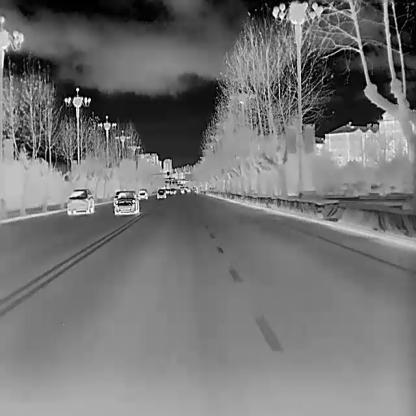car: (67, 189, 93, 216), (113, 190, 139, 214), (138, 189, 148, 199), (156, 189, 166, 199), (170, 188, 175, 194), (180, 187, 185, 193), (165, 188, 170, 193), (187, 188, 190, 193)
